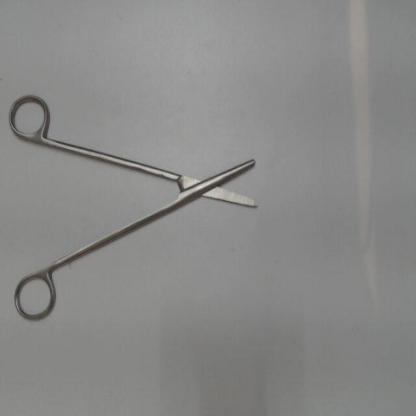9 Metzenbaum Scissors: (6, 89, 262, 331)
